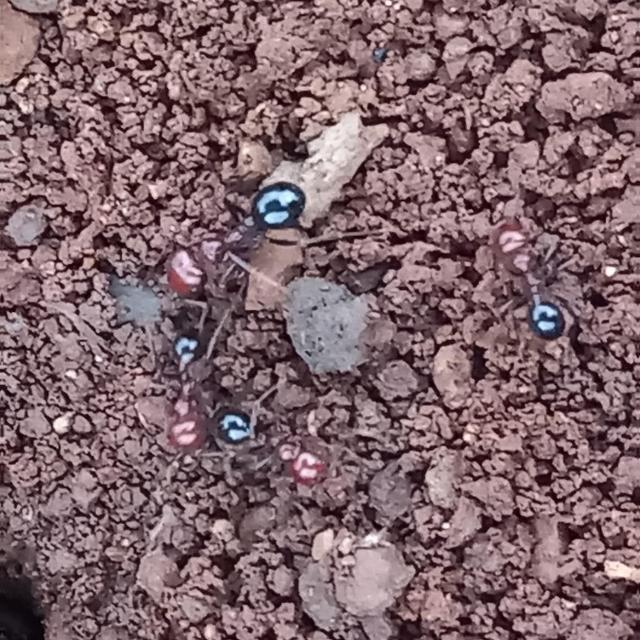Messor: (153, 173, 315, 299), (211, 387, 341, 503), (472, 205, 578, 345), (118, 314, 212, 444)
